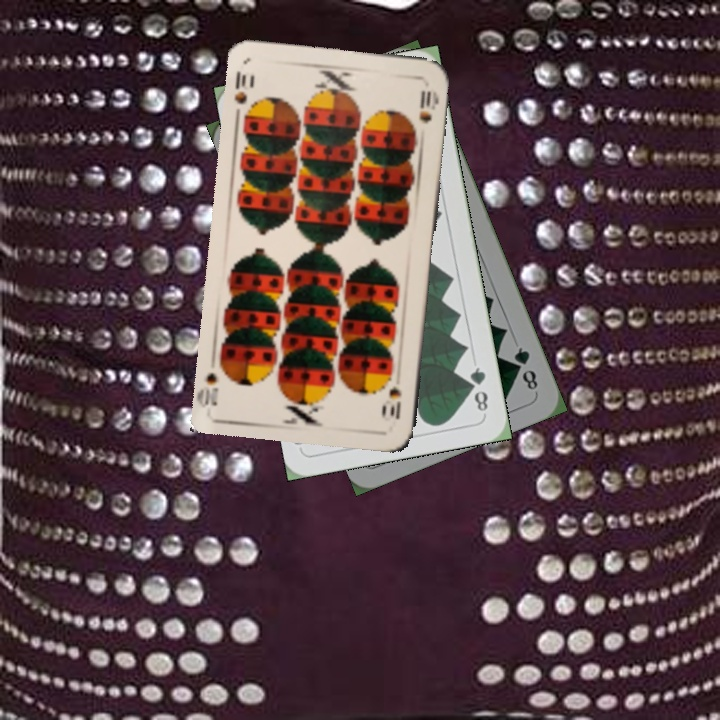G8: (510, 343, 541, 393), (465, 363, 491, 414)
S10: (230, 67, 250, 107), (385, 382, 404, 423)
